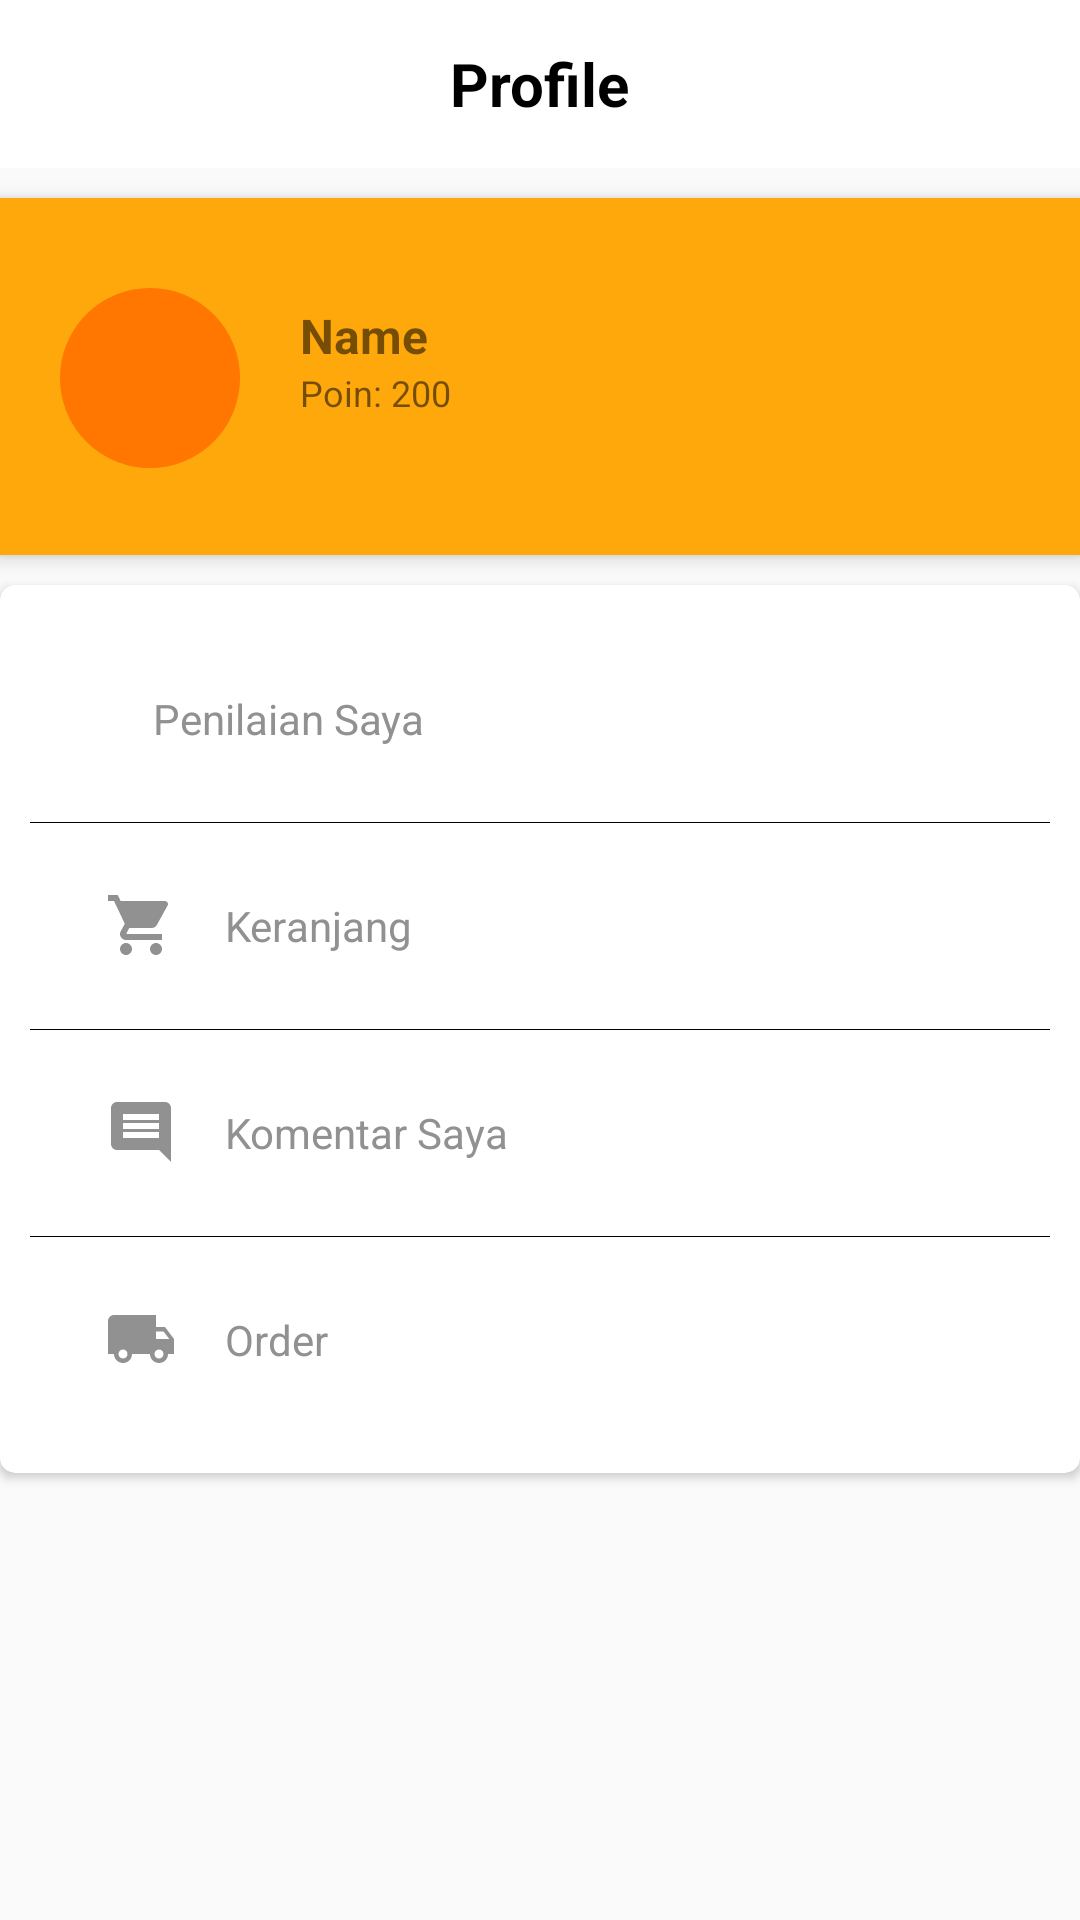

Icons on this 1080 × 1920 Android screen, each with its box as (x1,y1,x2,y2):
comment: (111,1102,171,1162)
local shipping: (108,1315,174,1363)
shopping cart: (108,895,168,955)
